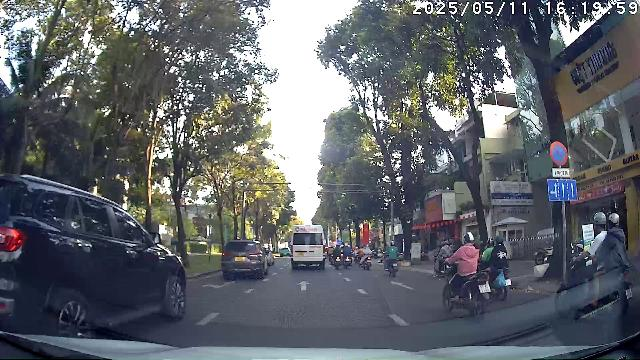131a-cam-do-xe: (550, 141, 568, 166)
